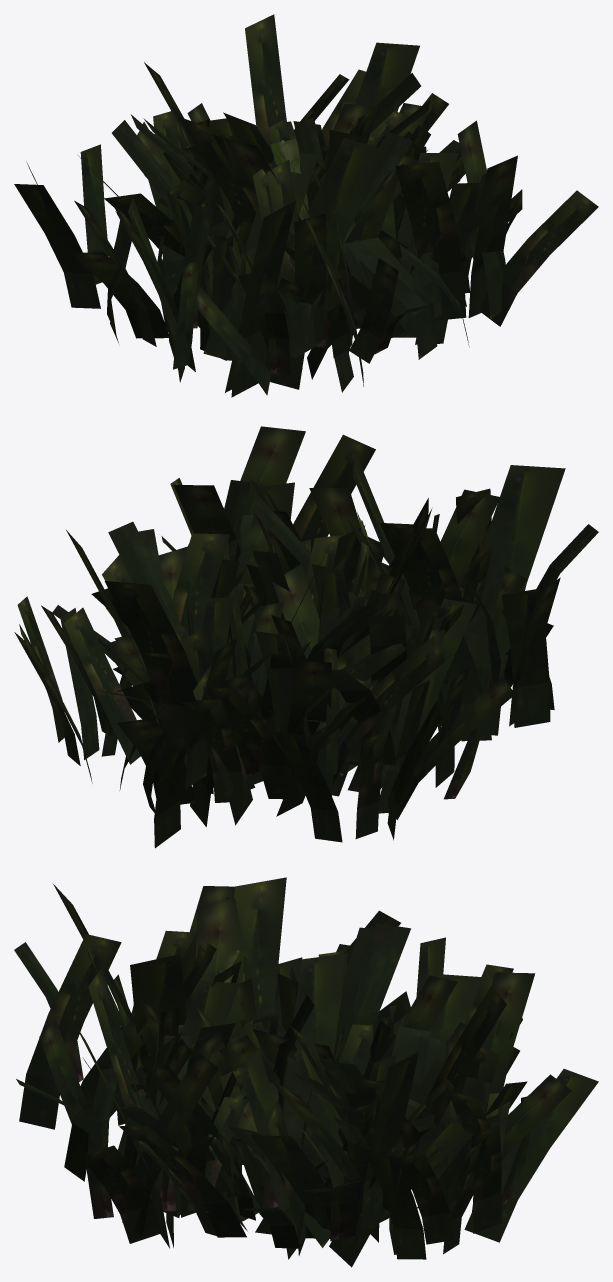
Rendered from grass.glb.
3 views of the same model, one above another, from view 1: azimuth 30°, elevation 25°; view 2: azimuth 150°, elevation 25°; view 3: azimuth 270°, elevation 25° (orthographic). The views are drawn at different scales.
Parts seen in each view (by area): view 1: rumput.004; view 2: rumput.004; view 3: rumput.004.
Boxes of the visible parts, x1,y1,x2,y2 form: rumput.004: (14, 14, 598, 397); rumput.004: (14, 426, 598, 848); rumput.004: (14, 877, 598, 1267).
Bounding box in the file's own units: 3.33 × 2 × 3.72.
2 materials, 2 textured.
